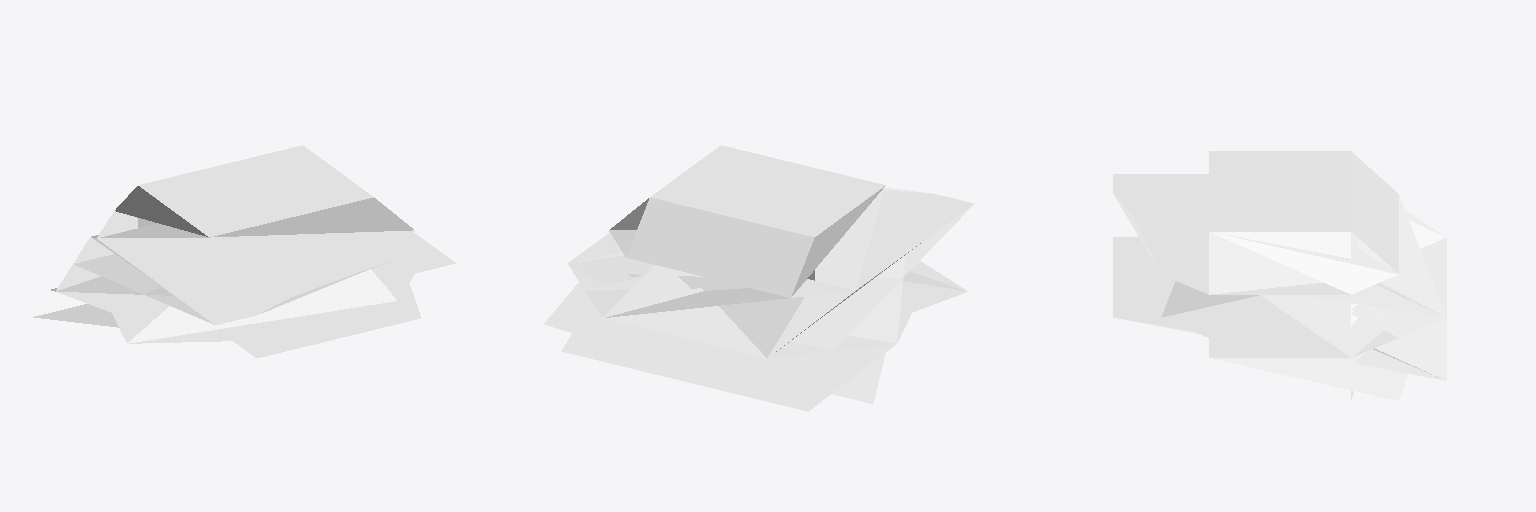
Rendered from Character0_Run0.obj.
The picture shows the model from 3 angles: view 1: azimuth 30°, elevation 25°; view 2: azimuth 150°, elevation 25°; view 3: azimuth 270°, elevation 25°; orthographic projection.
Bounding box in the file's own units: 8 × 3 × 7.